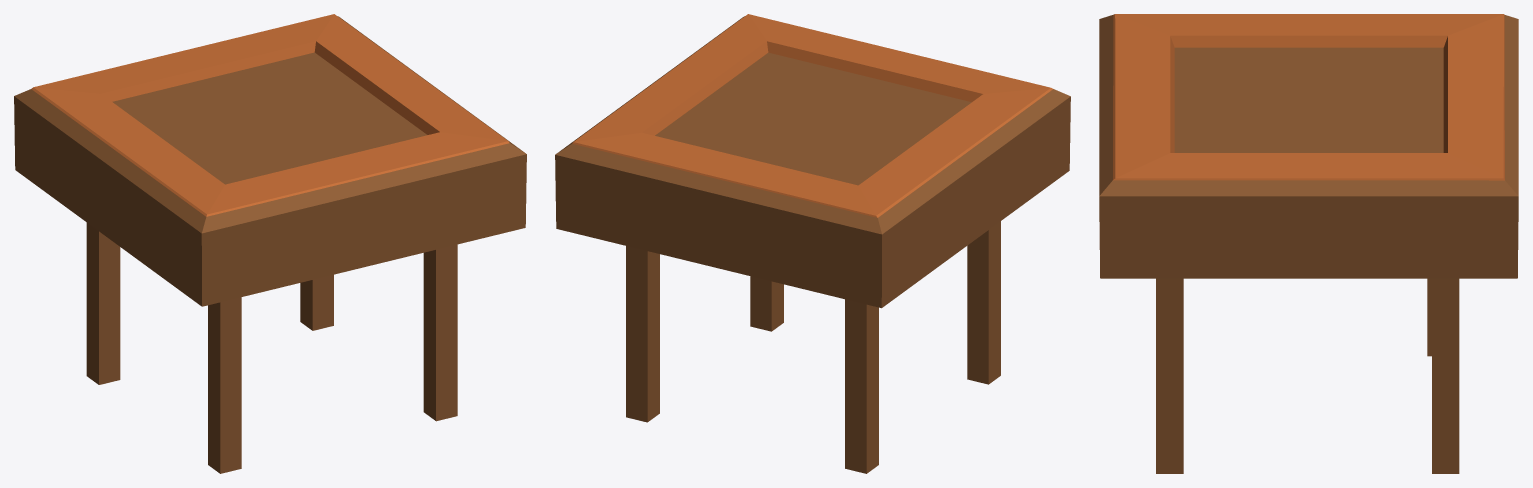
File: Mesa com textura.fbx
The picture shows the model from 3 angles, left to right: view 1: azimuth 30°, elevation 25°; view 2: azimuth 150°, elevation 25°; view 3: azimuth 270°, elevation 25°; orthographic projection. The views are drawn at different scales.
Visible parts, largest first — view 1: Cube.004; view 2: Cube.004; view 3: Cube.004.
Boxes of the visible parts, x1,y1,x2,y2 form: Cube.004: [14, 14, 526, 473]; Cube.004: [555, 14, 1070, 473]; Cube.004: [1099, 14, 1518, 473].
Size of the model in its own units: 301 by 250 by 301.
